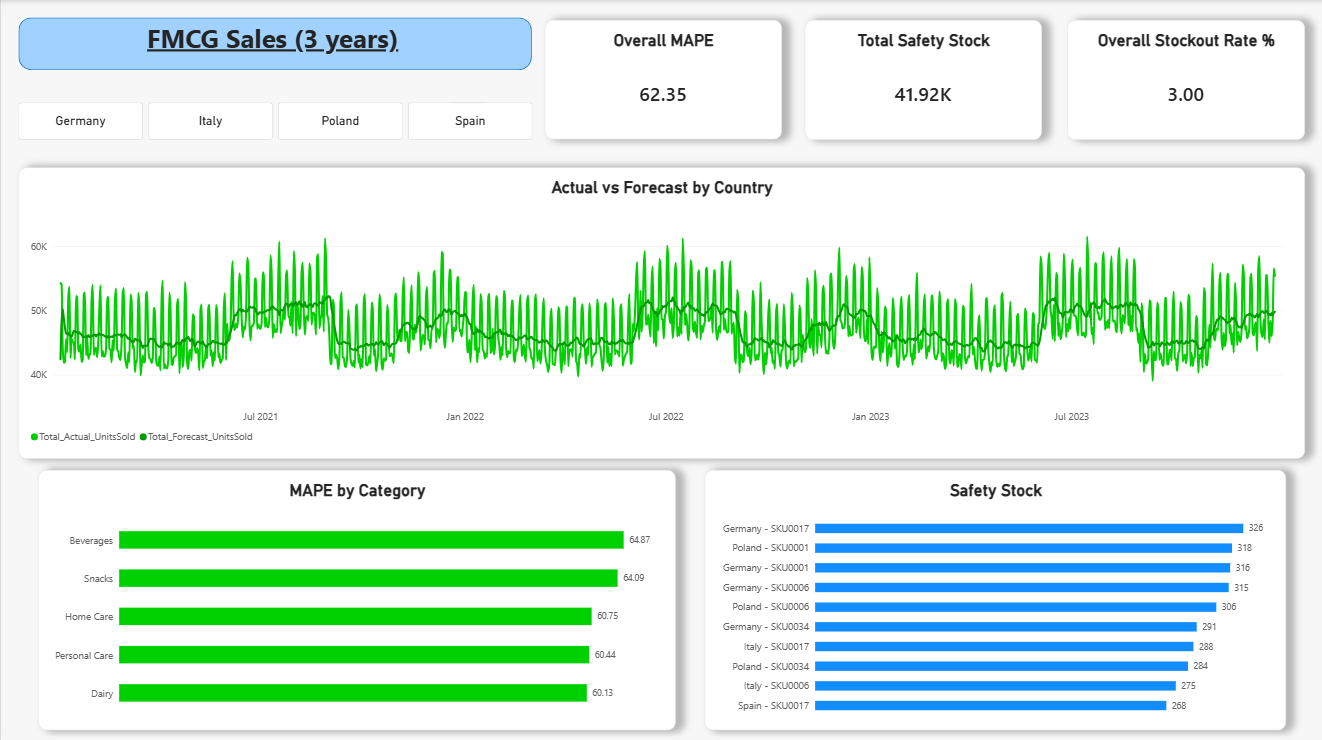

The page's visual inventory and layout, read from the dashboard file:
{"tool":"powerbi","page":{"name":"Forecast Performance & Risk","canvas":[1920,1080],"ordinal":0},"visuals":[{"type":"card","title":"Overall MAPE","fields":{"Values":["Query2_Forecast_Accuracy_MAPE_by_Category.Overall MAPE %"]},"box":[787.2,29,343,173],"z":0},{"type":"card","title":"Total Safety Stock","fields":{"Values":["Query3_Demand_Volatility_and_Safety_Stock_by_SKU.Total Safety Stock"]},"box":[1163.6,29,343,173.7],"z":1000},{"type":"card","title":"Overall Stockout Rate %","fields":{"Values":["Query4_Stockout_Frequency_and_Its_Relationship_to_ Lead_Time.Overall Stockout Rate %"]},"box":[1543.6,29,343.8,173.7],"z":2000},{"type":"lineChart","title":"Actual vs Forecast by Country","fields":{"Category":["Q1A.date"],"Y":["Sum(Q1A.Total_Actual_UnitsSold)","Sum(Q1A.Total_Forecast_UnitsSold)"]},"box":[25.3,242.5,1862.1,421.7],"z":3000},{"type":"clusteredBarChart","title":"MAPE by Category","fields":{"Category":["Query2_Forecast_Accuracy_MAPE_by_Category.category"],"Y":["Sum(Q2.MAPE_Percent)"]},"box":[53.5,681.3,922.1,376.7],"z":4000},{"type":"advancedSlicerVisual","fields":{"Values":["Country_Ref.Country"]},"box":[25.3,148.4,745.6,54.3],"z":5000},{"type":"clusteredBarChart","title":"Safety Stock","fields":{"Y":["Sum(Q3.Safety_Stock)"],"Category":["Q3.Country_SKU"]},"box":[1018.9,681.3,841.9,376.7],"z":6000},{"type":"shape","box":[24.7,24.7,743.1,76.2],"z":7000},{"type":"textbox","box":[88.5,28.8,609.3,86.4],"z":8000}]}

Visuals, with their boxes in screenshot pixels (x1, y1, x2, y2), scaled from the page's 1920x1080 canvas onto the 1322x740 screenshot:
"Overall MAPE" card: 542, 20, 778, 138
"Total Safety Stock" card: 801, 20, 1037, 139
"Overall Stockout Rate %" card: 1063, 20, 1300, 139
"Actual vs Forecast by Country" lineChart: 17, 166, 1300, 455
"MAPE by Category" clusteredBarChart: 37, 467, 672, 725
advancedSlicerVisual - Country_Ref.Country: 17, 102, 531, 139
"Safety Stock" clusteredBarChart: 702, 467, 1281, 725
shape: 17, 17, 529, 69
textbox: 61, 20, 480, 79
